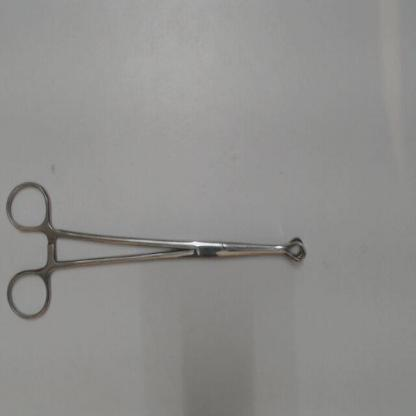8 Babcock Tissue Forceps: (3, 171, 310, 324)
